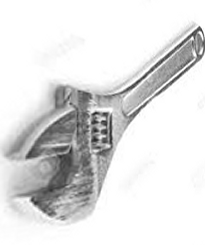Wrench: (20, 26, 205, 226)
